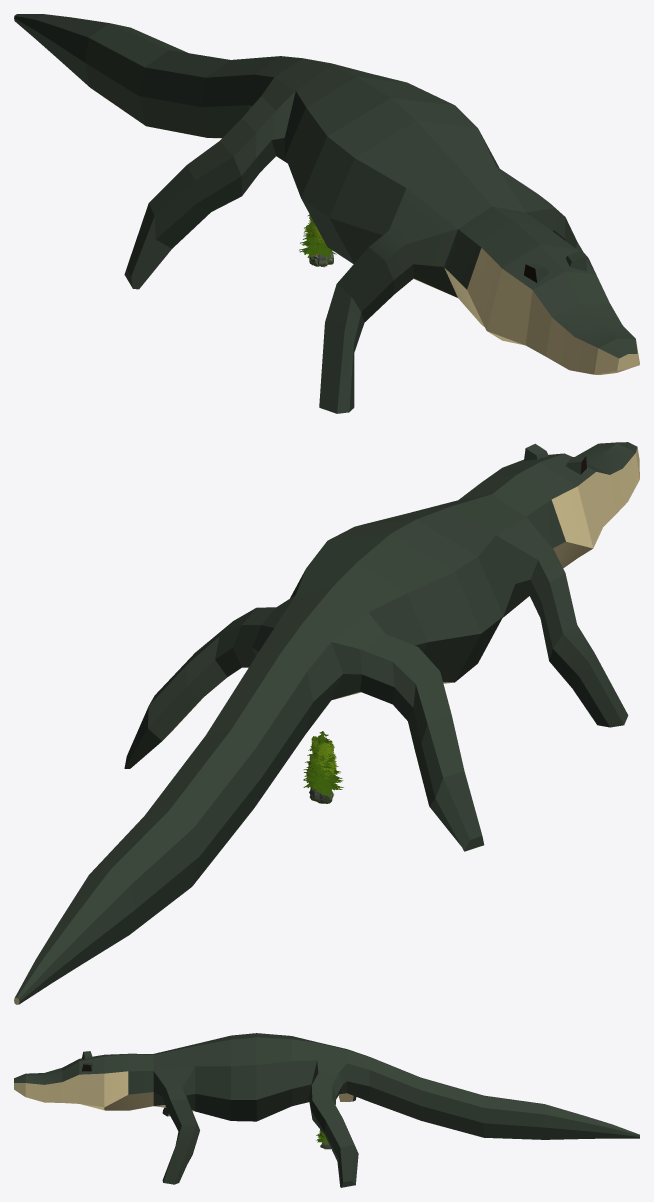
The model's file is mega.glb.
3 views of the same model, one above another, from view 1: azimuth 30°, elevation 25°; view 2: azimuth 150°, elevation 25°; view 3: azimuth 270°, elevation 25° (orthographic). The views are drawn at different scales.
Visible parts, largest first — view 1: M_Alligator; view 2: M_Alligator; view 3: M_Alligator.
Boxes of the visible parts, box(x1,y1,x2,y2) form: M_Alligator: box(14, 14, 639, 413); M_Alligator: box(14, 442, 639, 1004); M_Alligator: box(14, 1033, 639, 1187).
Size of the model in its own units: 54.21 by 31.83 by 163.
Materials: 1 (1 with a texture image).
